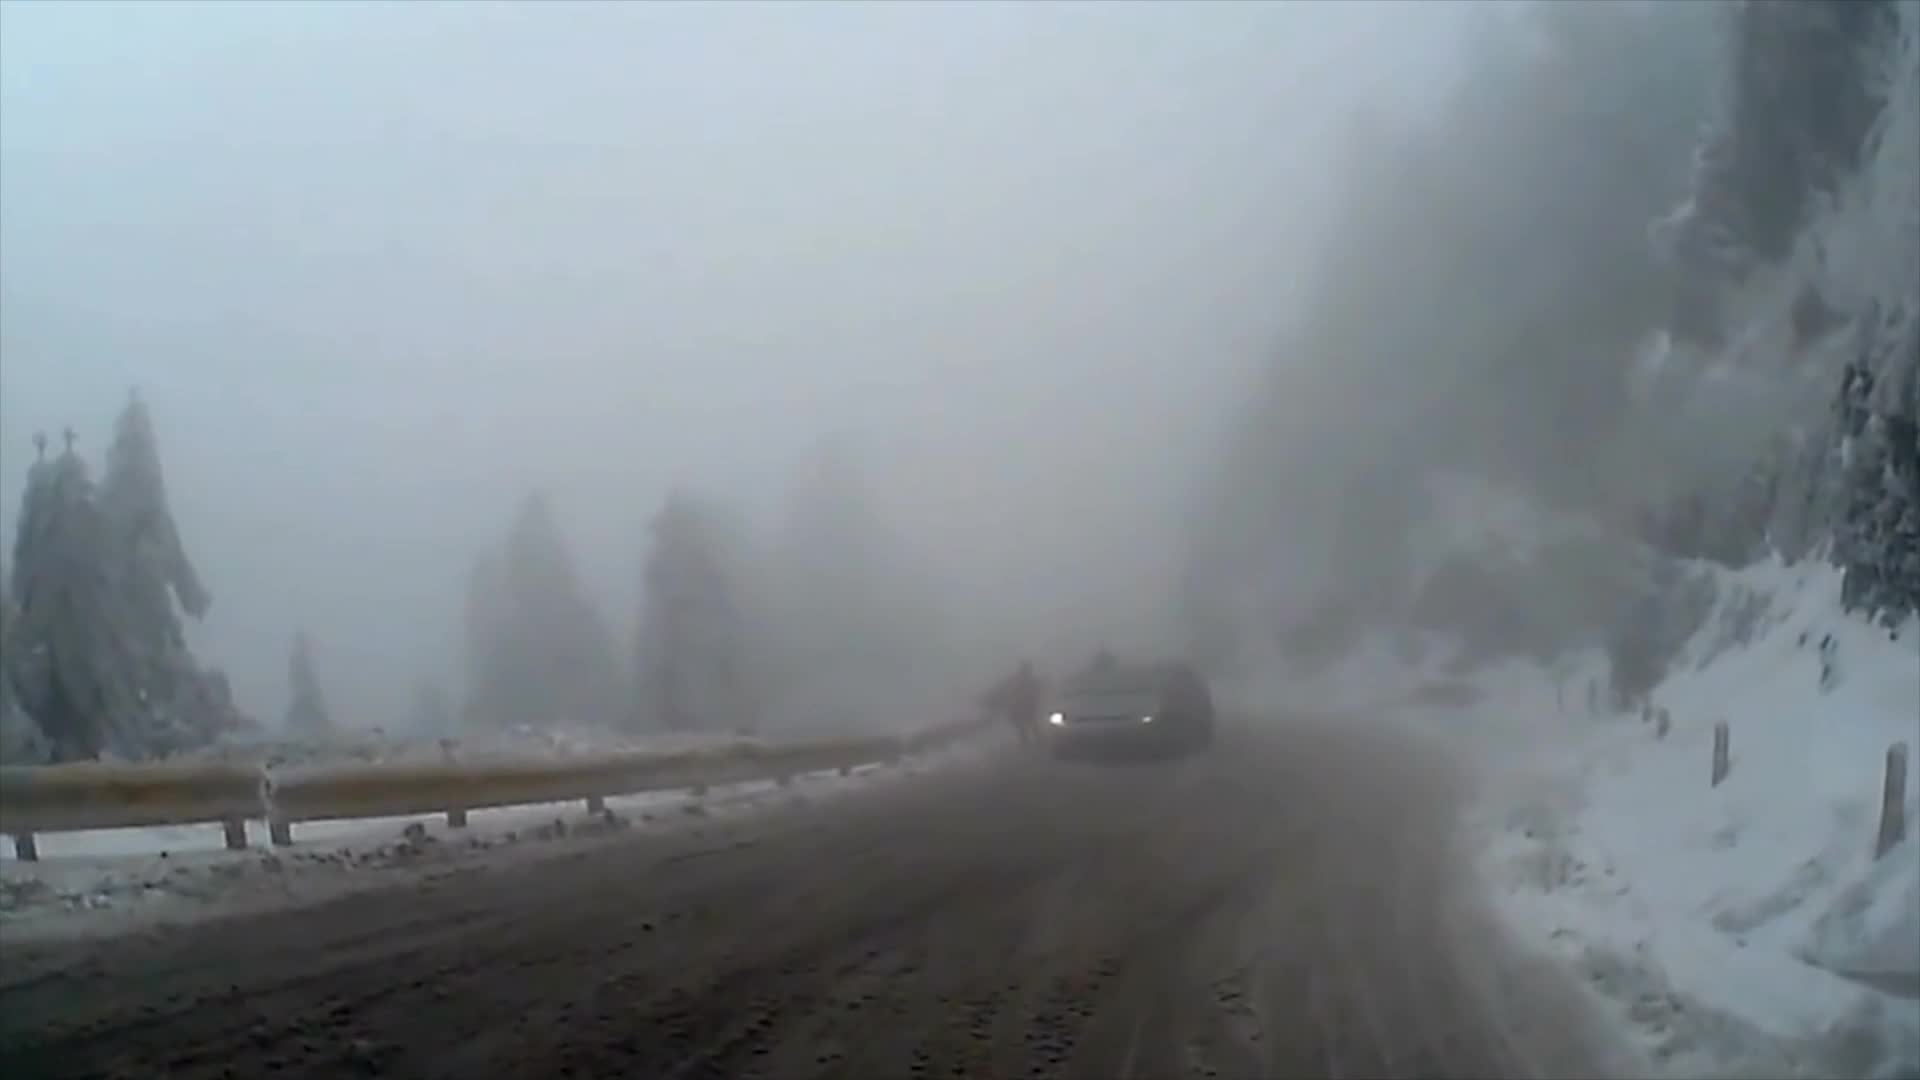vehicle: (1038, 658, 1215, 766)
